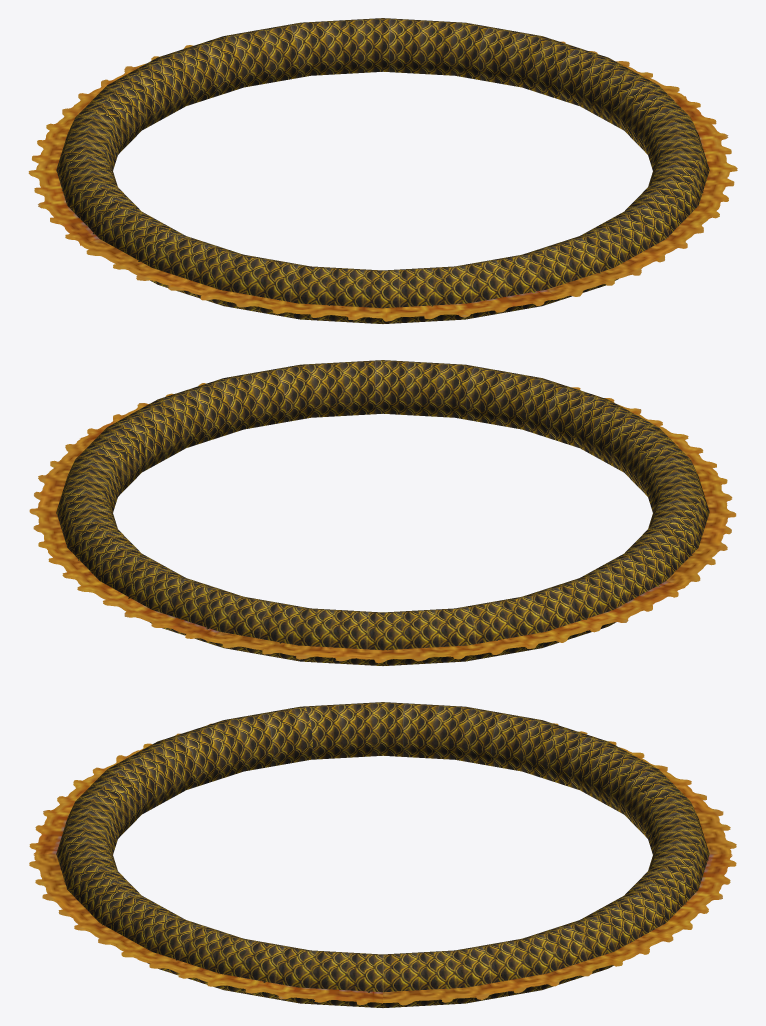
Rendered from environment_Building_tiangong_long_a.FBX.
The picture shows the model from 3 angles, top to bottom: view 1: azimuth 30°, elevation 25°; view 2: azimuth 150°, elevation 25°; view 3: azimuth 270°, elevation 25°; orthographic projection.
Visible parts, largest first — view 1: environment_Building_tiangong_long_a1, environment_Building_tiangong_long_a2; view 2: environment_Building_tiangong_long_a1, environment_Building_tiangong_long_a2; view 3: environment_Building_tiangong_long_a1, environment_Building_tiangong_long_a2.
Boxes of the visible parts, left/top/right/bottom form: environment_Building_tiangong_long_a1: left=56, top=18, right=709, bottom=323; environment_Building_tiangong_long_a2: left=28, top=41, right=737, bottom=321; environment_Building_tiangong_long_a1: left=56, top=360, right=709, bottom=665; environment_Building_tiangong_long_a2: left=29, top=383, right=736, bottom=663; environment_Building_tiangong_long_a1: left=56, top=702, right=709, bottom=1007; environment_Building_tiangong_long_a2: left=29, top=723, right=736, bottom=1005.
Size of the model in its own units: 347 by 347 by 26.85.
